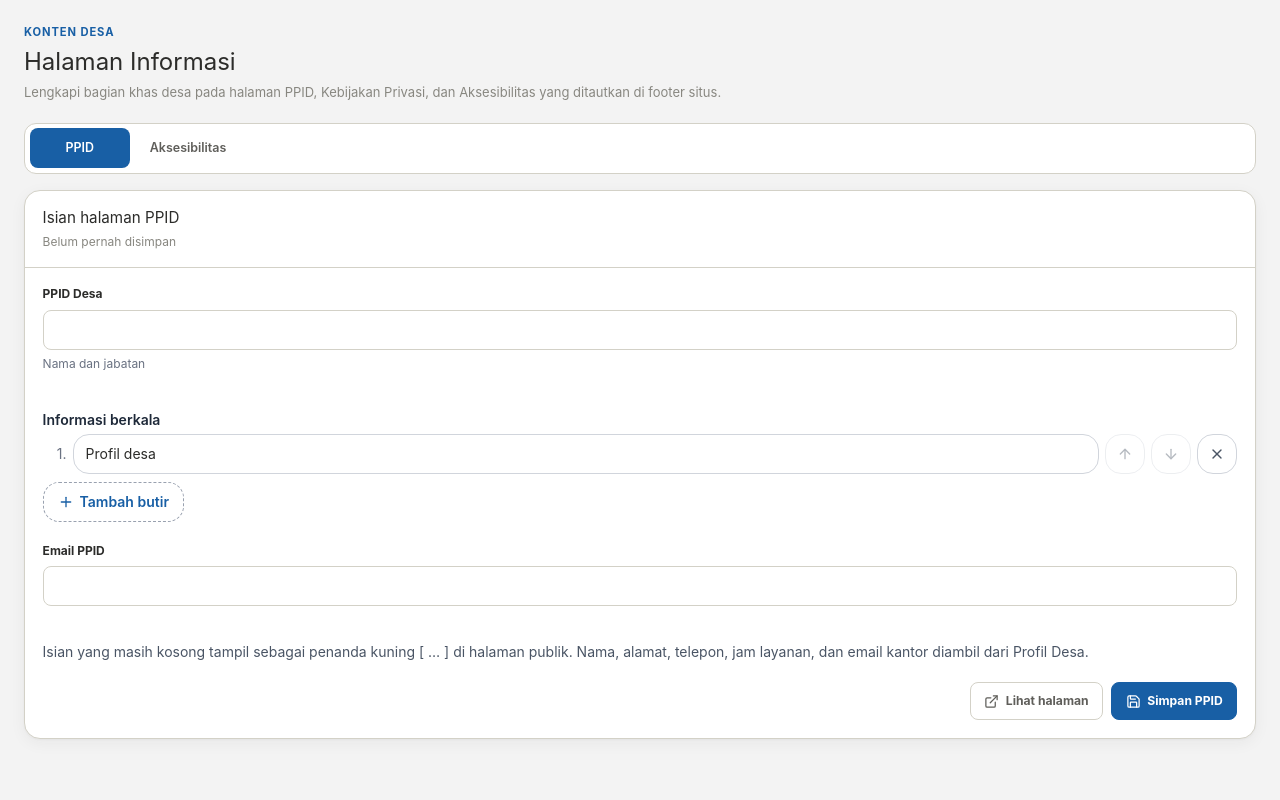
Test: KelolaHalamanInfoPage › switches to another page with the tabs
Click the tab "Aksesibilitas". click: (188, 148)
box: [135, 128, 241, 168]
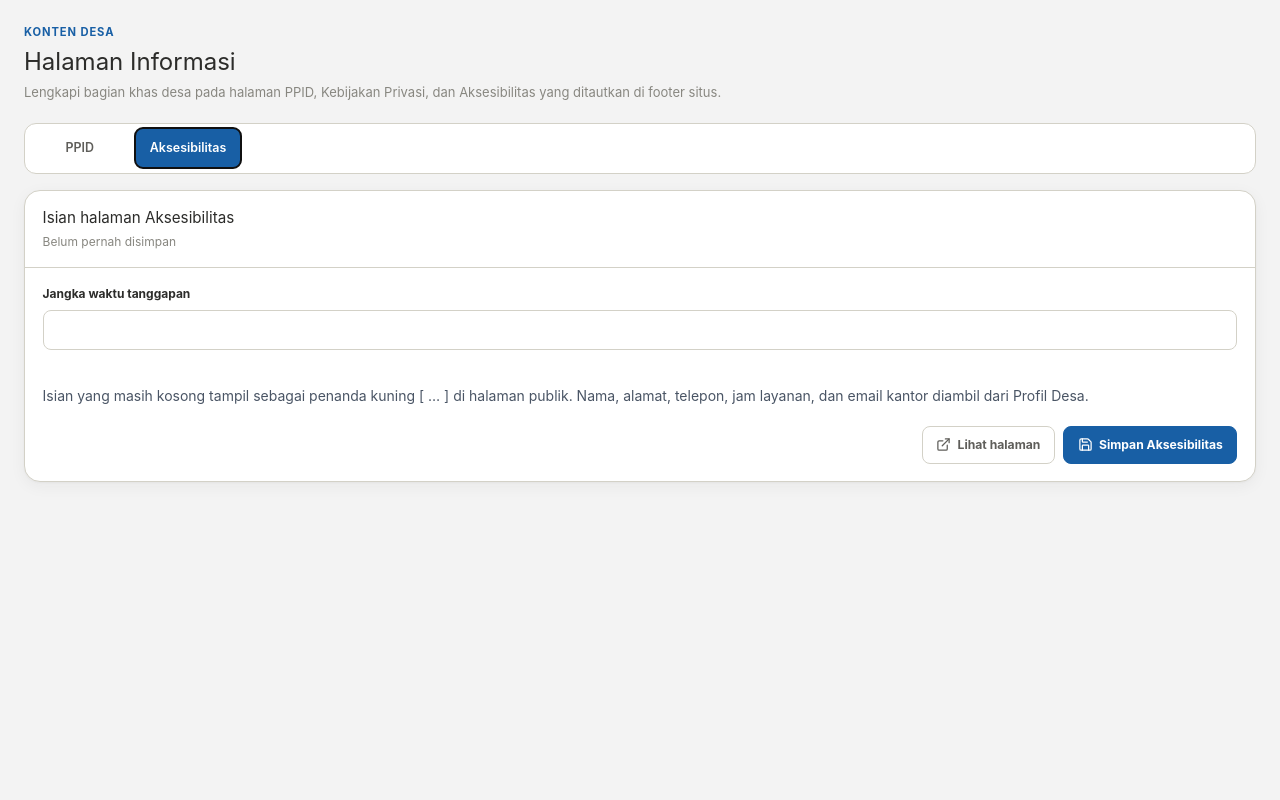
Expected: the field labelled "Jangka waktu tanggapan" is shown, [43, 310, 1237, 350]
Expected: the label labelled "PPID Desa" is gone
